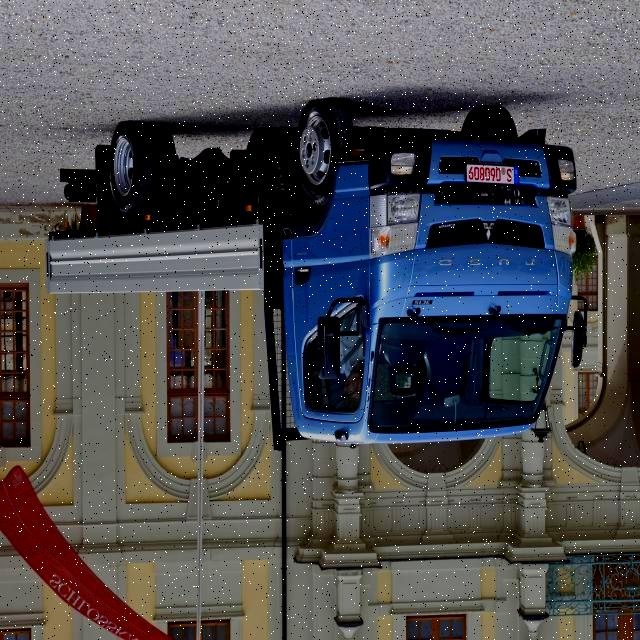truck: (46, 105, 592, 454)
